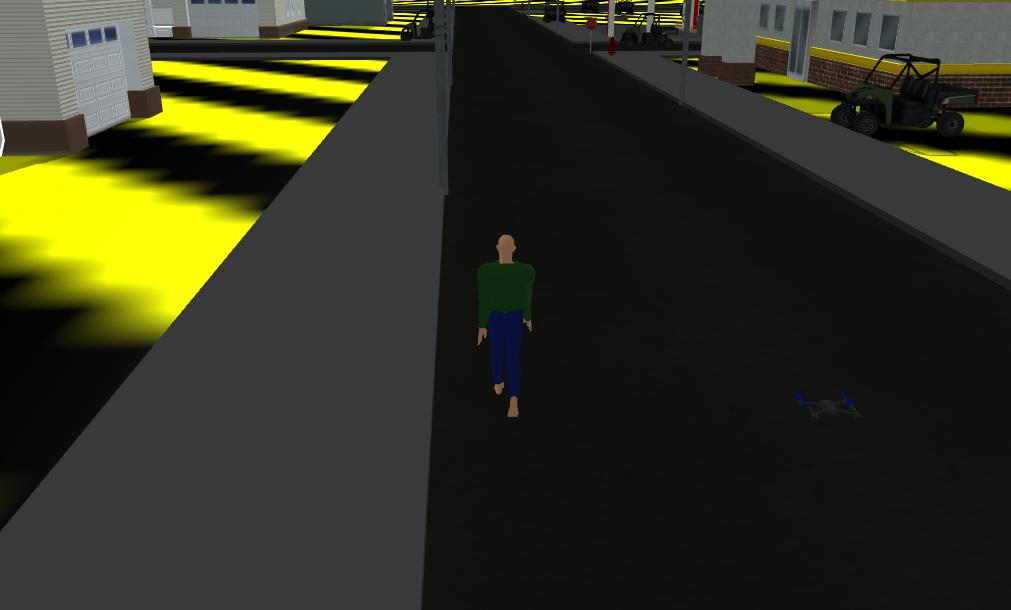car: (827, 44, 958, 172), (617, 20, 674, 61)
human: (467, 230, 574, 428)
